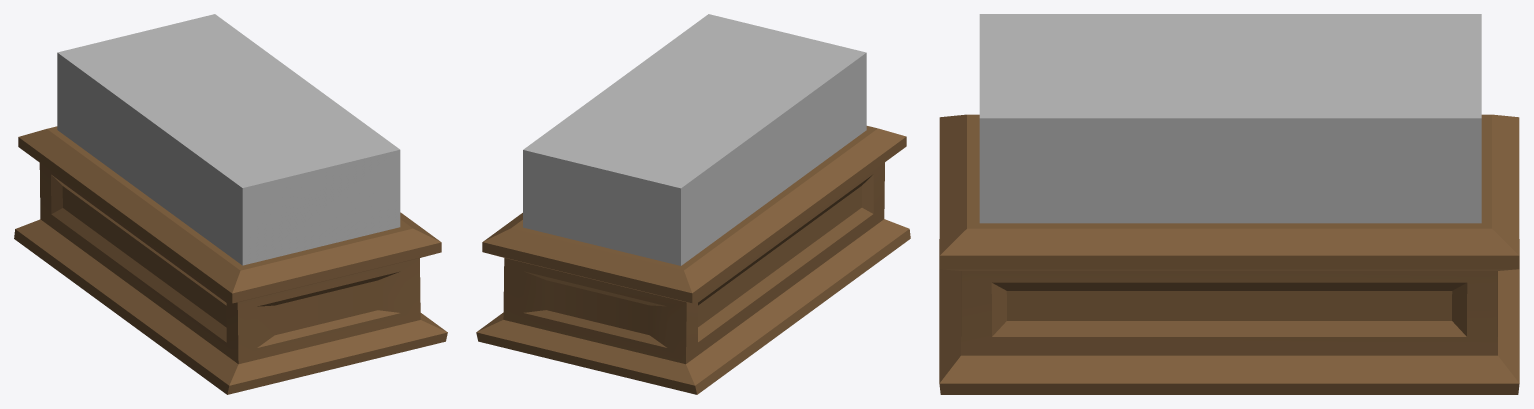
The model's file is medium 2 display box.fbx.
The picture shows the model from 3 angles, left to right: view 1: azimuth 30°, elevation 25°; view 2: azimuth 150°, elevation 25°; view 3: azimuth 270°, elevation 25°; orthographic projection. The views are drawn at different scales.
Visible parts, largest first — view 1: pCube90, pCube89; view 2: pCube90, pCube89; view 3: pCube89, pCube90.
Part boxes in pixels (<box>): pCube90: <box>57,14,400,265</box>; pCube89: <box>14,126,447,394</box>; pCube90: <box>523,14,866,265</box>; pCube89: <box>476,126,910,394</box>; pCube89: <box>939,114,1519,394</box>; pCube90: <box>979,14,1481,223</box>.
Bounding box in the file's own units: 3.8 × 3.11 × 6.39.
